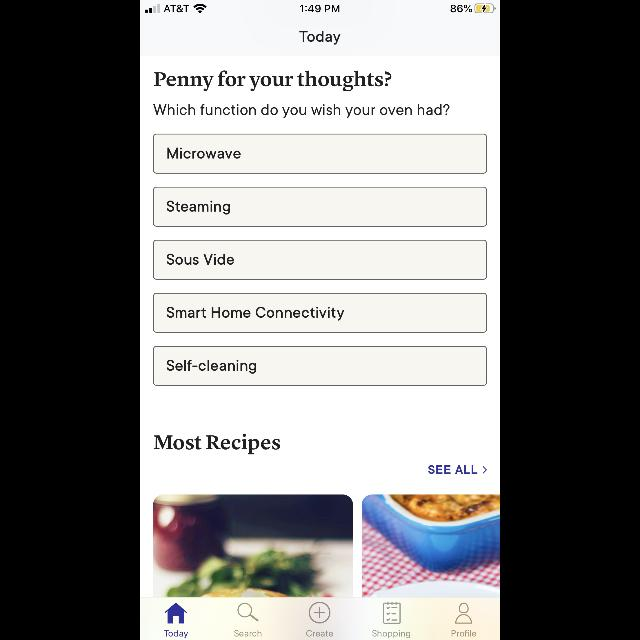icon: (310, 602, 330, 624), (165, 603, 187, 623), (454, 602, 472, 624), (384, 602, 401, 624), (238, 603, 258, 621), (483, 466, 487, 474)
image: (153, 495, 353, 597), (362, 495, 500, 597)
text: (154, 70, 392, 92), (154, 104, 450, 118), (154, 434, 280, 454), (300, 31, 340, 45), (428, 465, 478, 473), (372, 630, 410, 638), (164, 630, 188, 638), (234, 630, 262, 636), (307, 630, 333, 636), (452, 630, 476, 636)
textbutton: (153, 346, 487, 386), (153, 187, 487, 227), (154, 293, 486, 333), (154, 240, 486, 280), (154, 134, 486, 174)
uppertaskbar: (140, 0, 500, 14)
